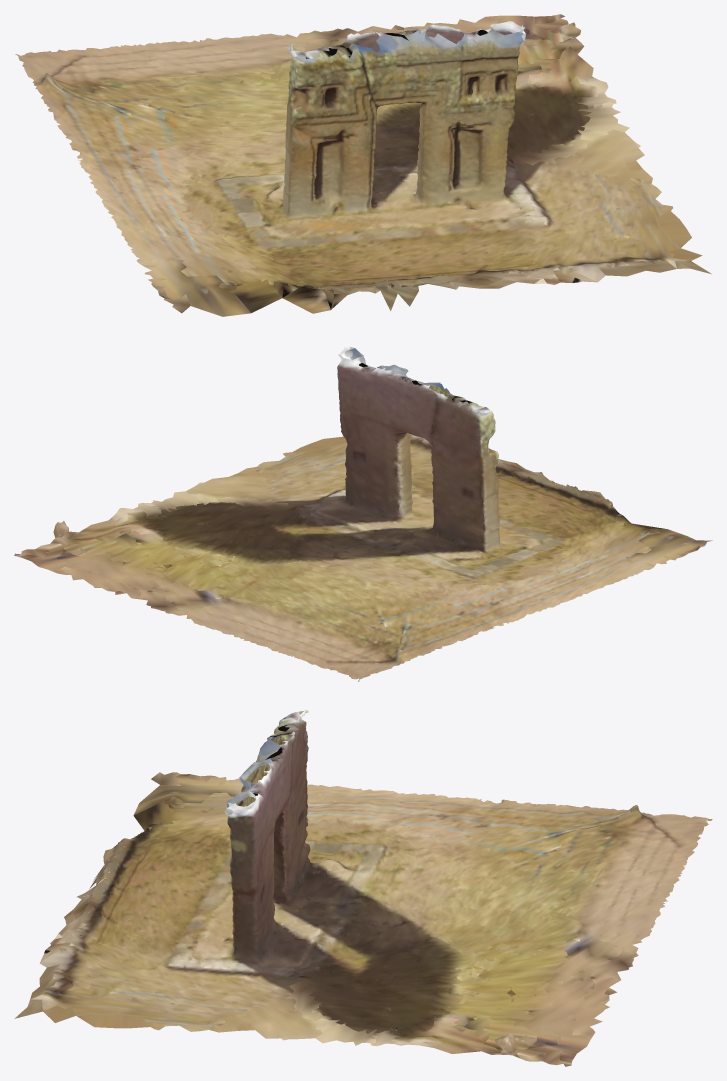
Rendered from gate_of_the_sun_tiwanaku.glb.
3 renders of one model, top to bottom at view 1: azimuth 30°, elevation 25°; view 2: azimuth 150°, elevation 25°; view 3: azimuth 270°, elevation 25°, orthographic. The views are drawn at different scales.
Parts seen in each view (by area): view 1: Object_3, Object_4; view 2: Object_3, Object_4; view 3: Object_3, Object_4.
Part boxes in pixels (left/top/right/bottom): Object_3: left=15, top=18, right=711, bottom=316; Object_4: left=153, top=14, right=691, bottom=313; Object_3: left=21, top=345, right=705, bottom=681; Object_4: left=14, top=358, right=712, bottom=622; Object_3: left=14, top=710, right=712, bottom=1065; Object_4: left=31, top=717, right=639, bottom=1066.
Size of the model in its own units: 12.33 by 3.71 by 12.75.
2 materials, 1 textured.
